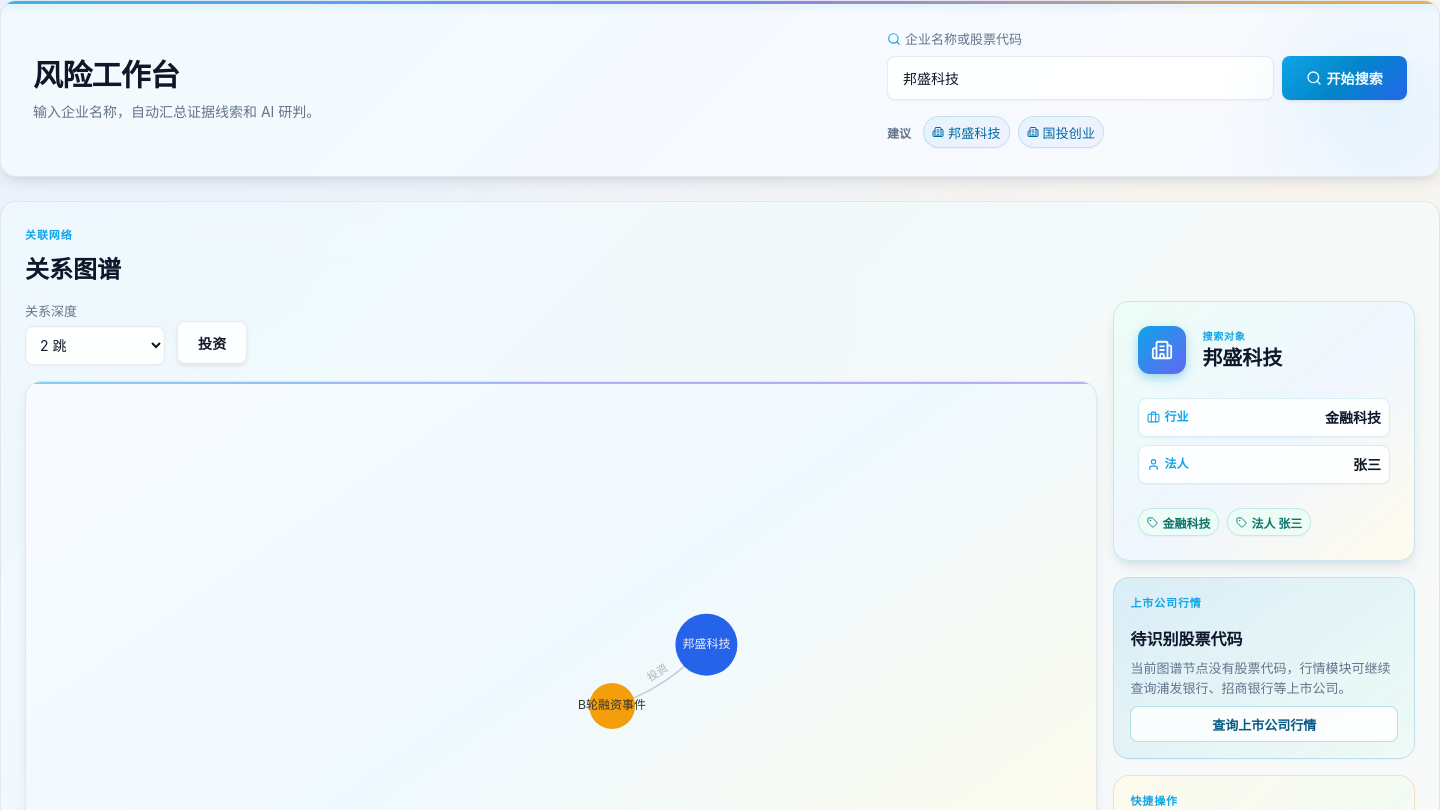
Scenario: RiskWorkbench › keeps an unavailable user search on its no-result state instead of falling back to default
Replace the text in the search field labelled "企业名称或股票代码" with "宇树科技" at (1081,78), box left=887, top=56, right=1274, bottom=100
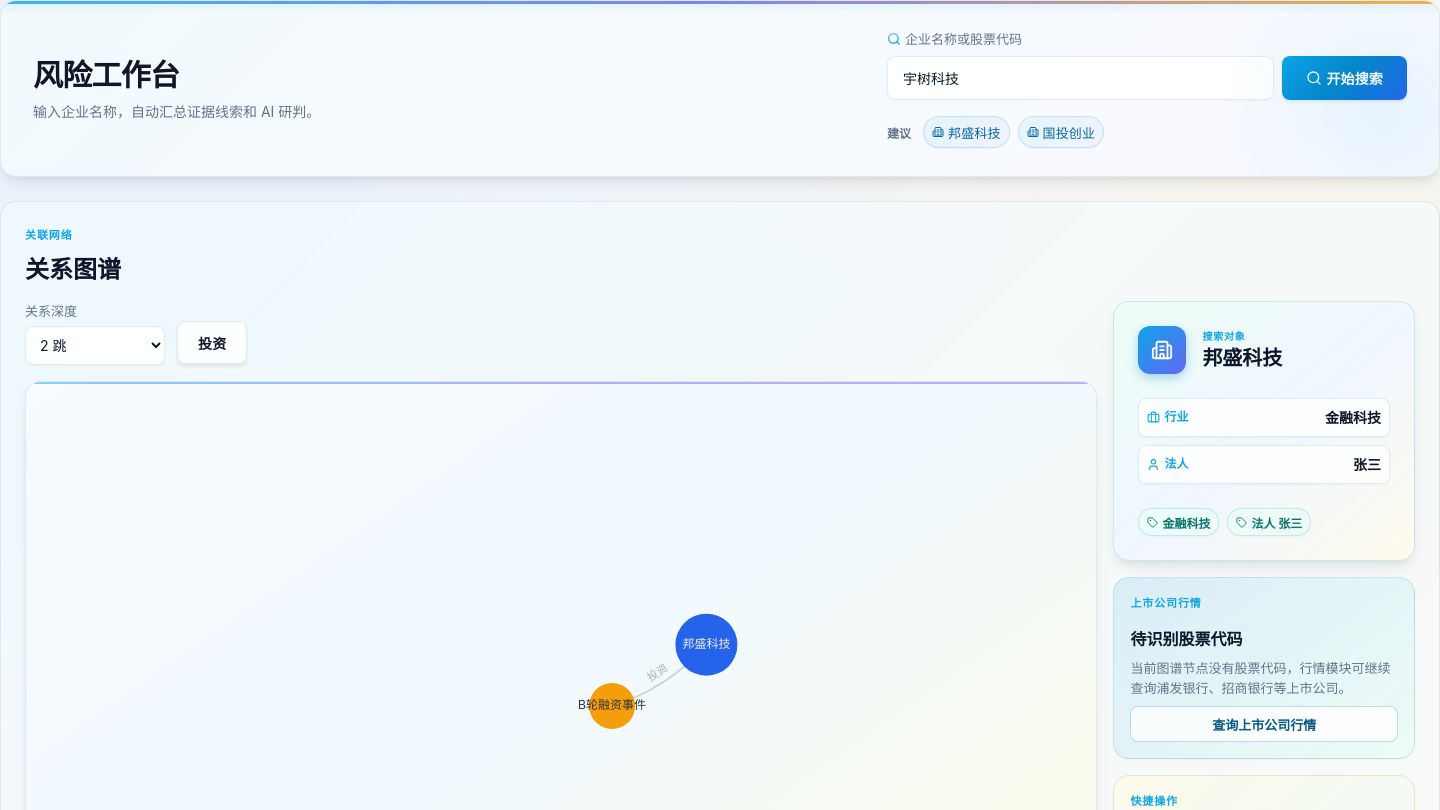
Submit the form, box left=887, top=29, right=1407, bottom=148
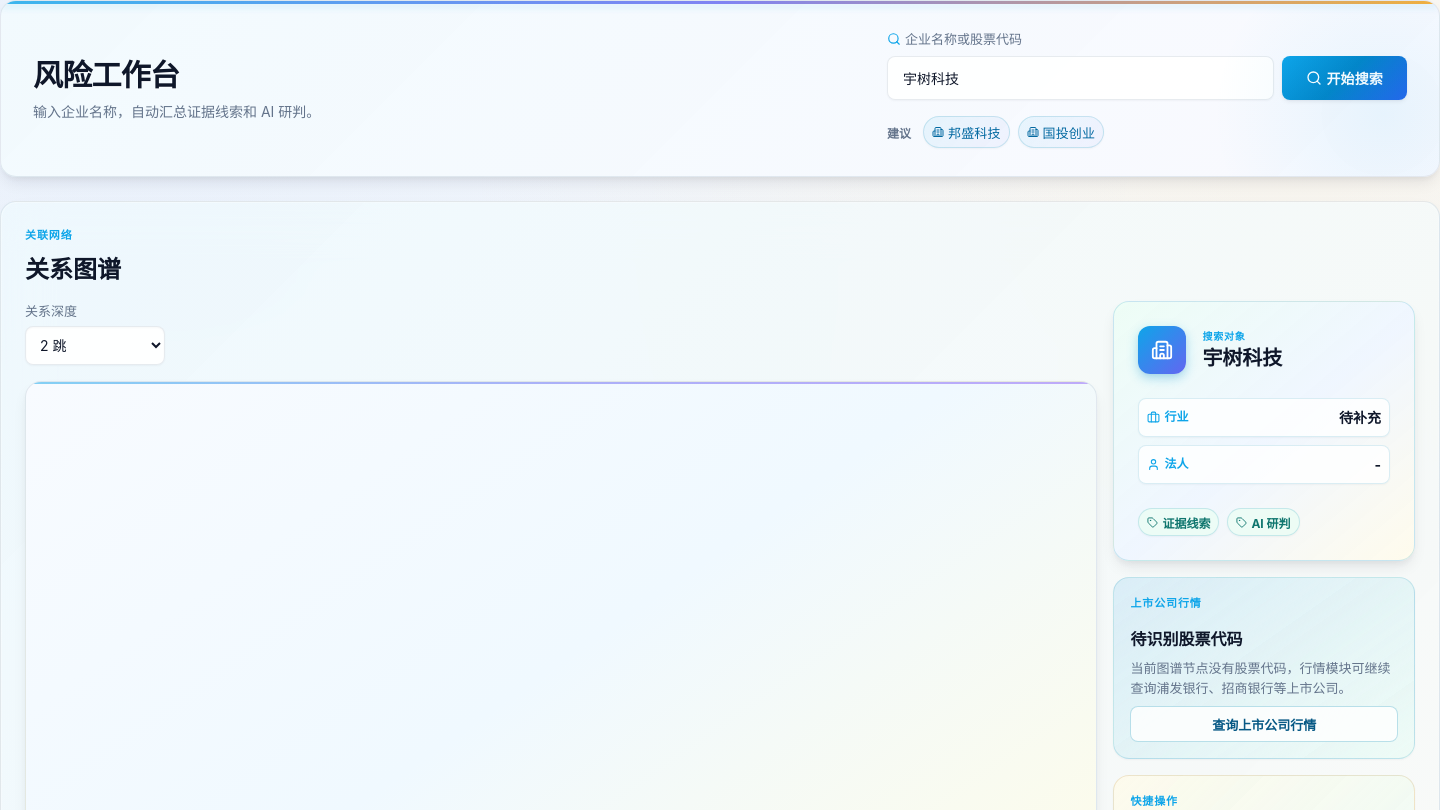
Expected: the text "关系图谱" is shown, left=25, top=250, right=121, bottom=285
Now the text "宇树科技" is shown, box left=1202, top=345, right=1282, bottom=372
